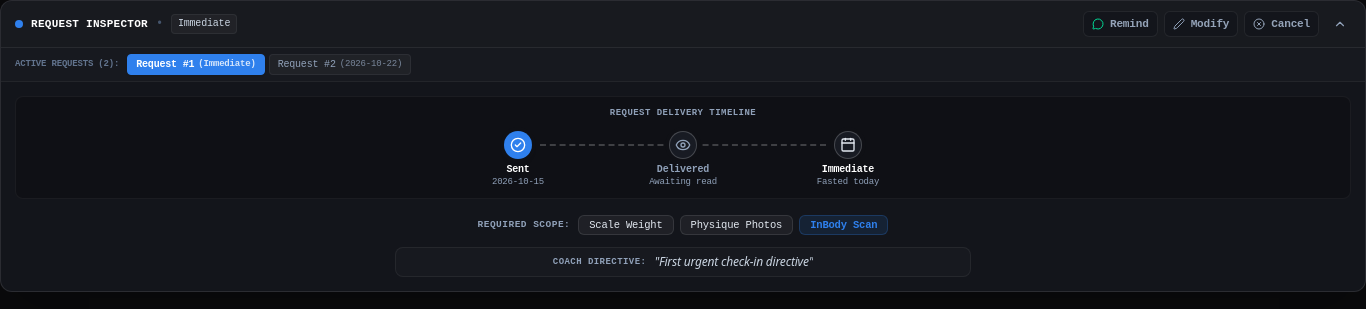
Test case: RequestDetailsInspector & TraineeCheckInBanner Suite › supports multi-request scenarios with selector tabs and independent audits
Expected: the text "Active Requests (2):" is shown, [15, 58, 119, 71]
Expected: the text "Request #1" is shown, [136, 57, 194, 72]
Click tab 2
What coordinates should you click on to do the following:
click the text "Request #2"
I would click on:
 (307, 64)
Its box is [278, 57, 336, 72].
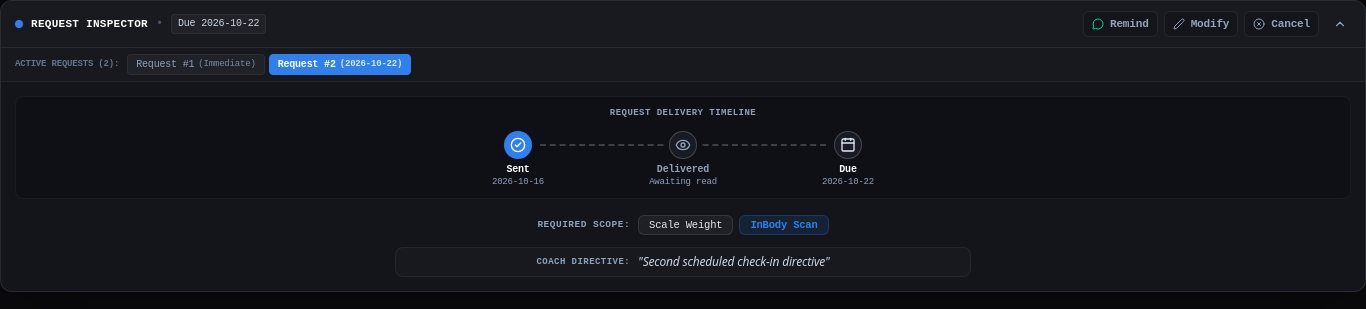
Result: the text "\"Second scheduled check-in directive\"" is shown at [638, 254, 830, 270]
